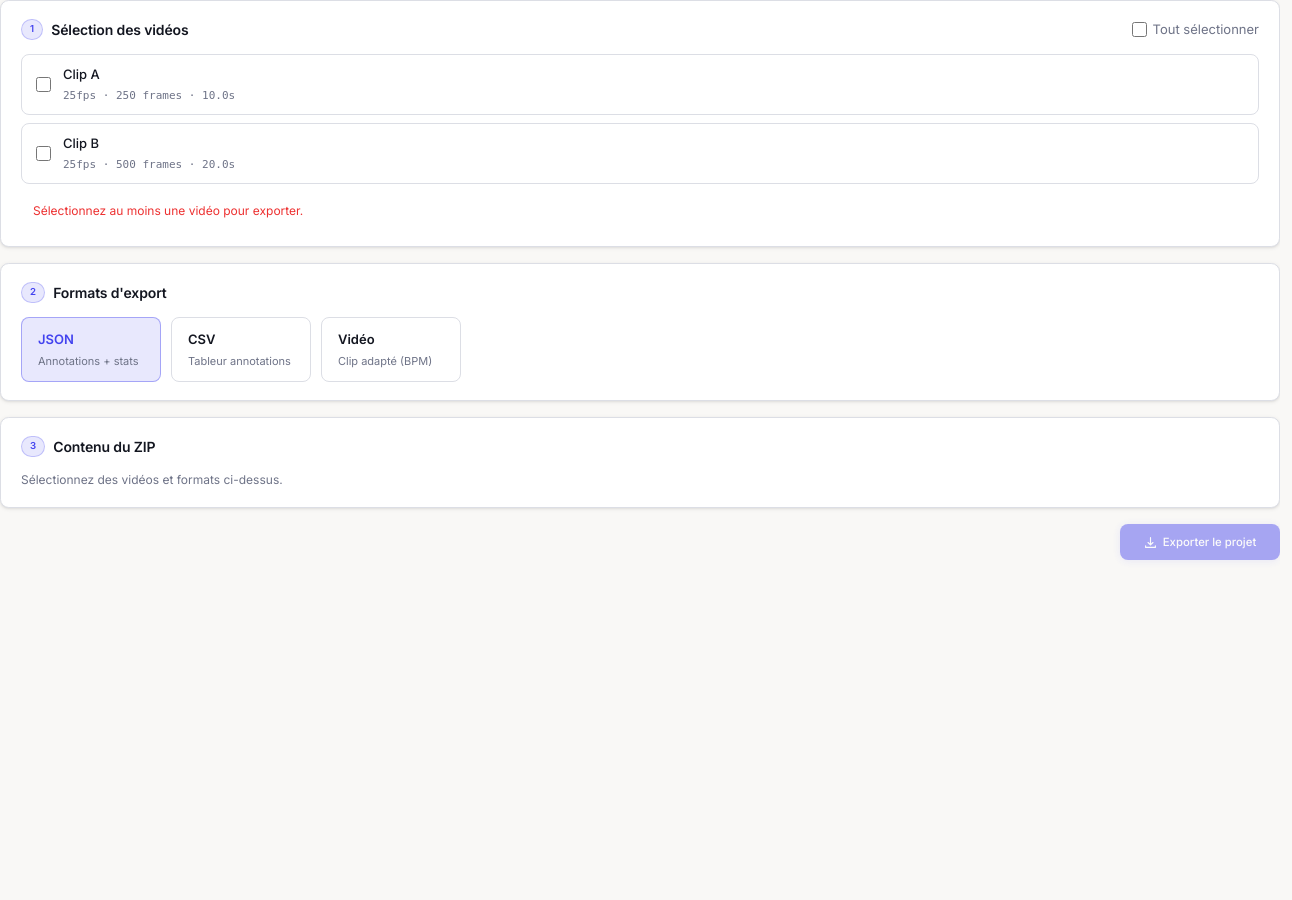
it: ExportPage › select all checkbox selects all videos
Click the checkbox labelled "Tout sélectionner".
click(1139, 30)  # box [1132,22,1147,37]
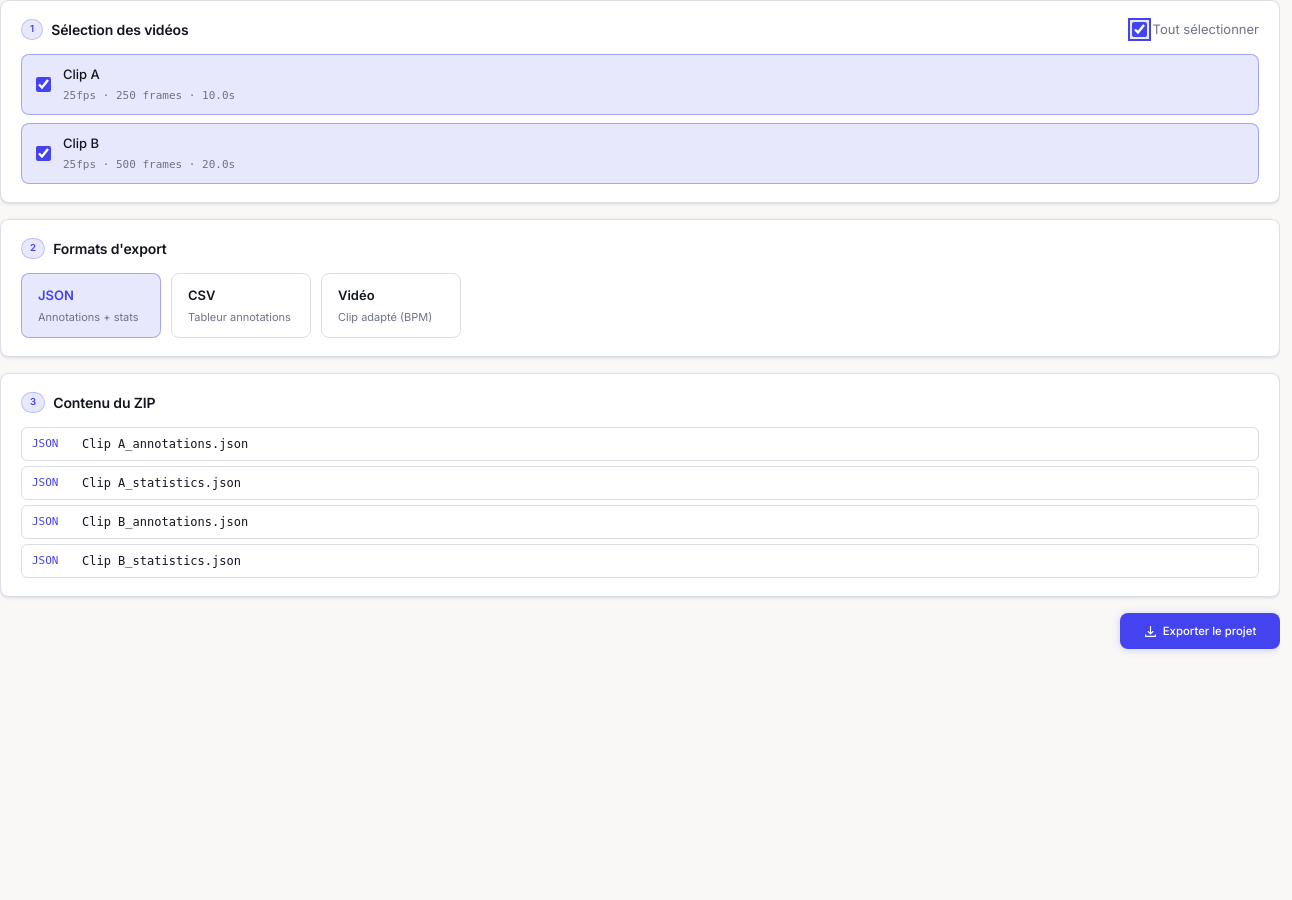
Now the checkbox labelled "Clip A" is checked, box [36,77,51,92]
Now the checkbox labelled "Clip B" is checked, box [36,146,51,161]
